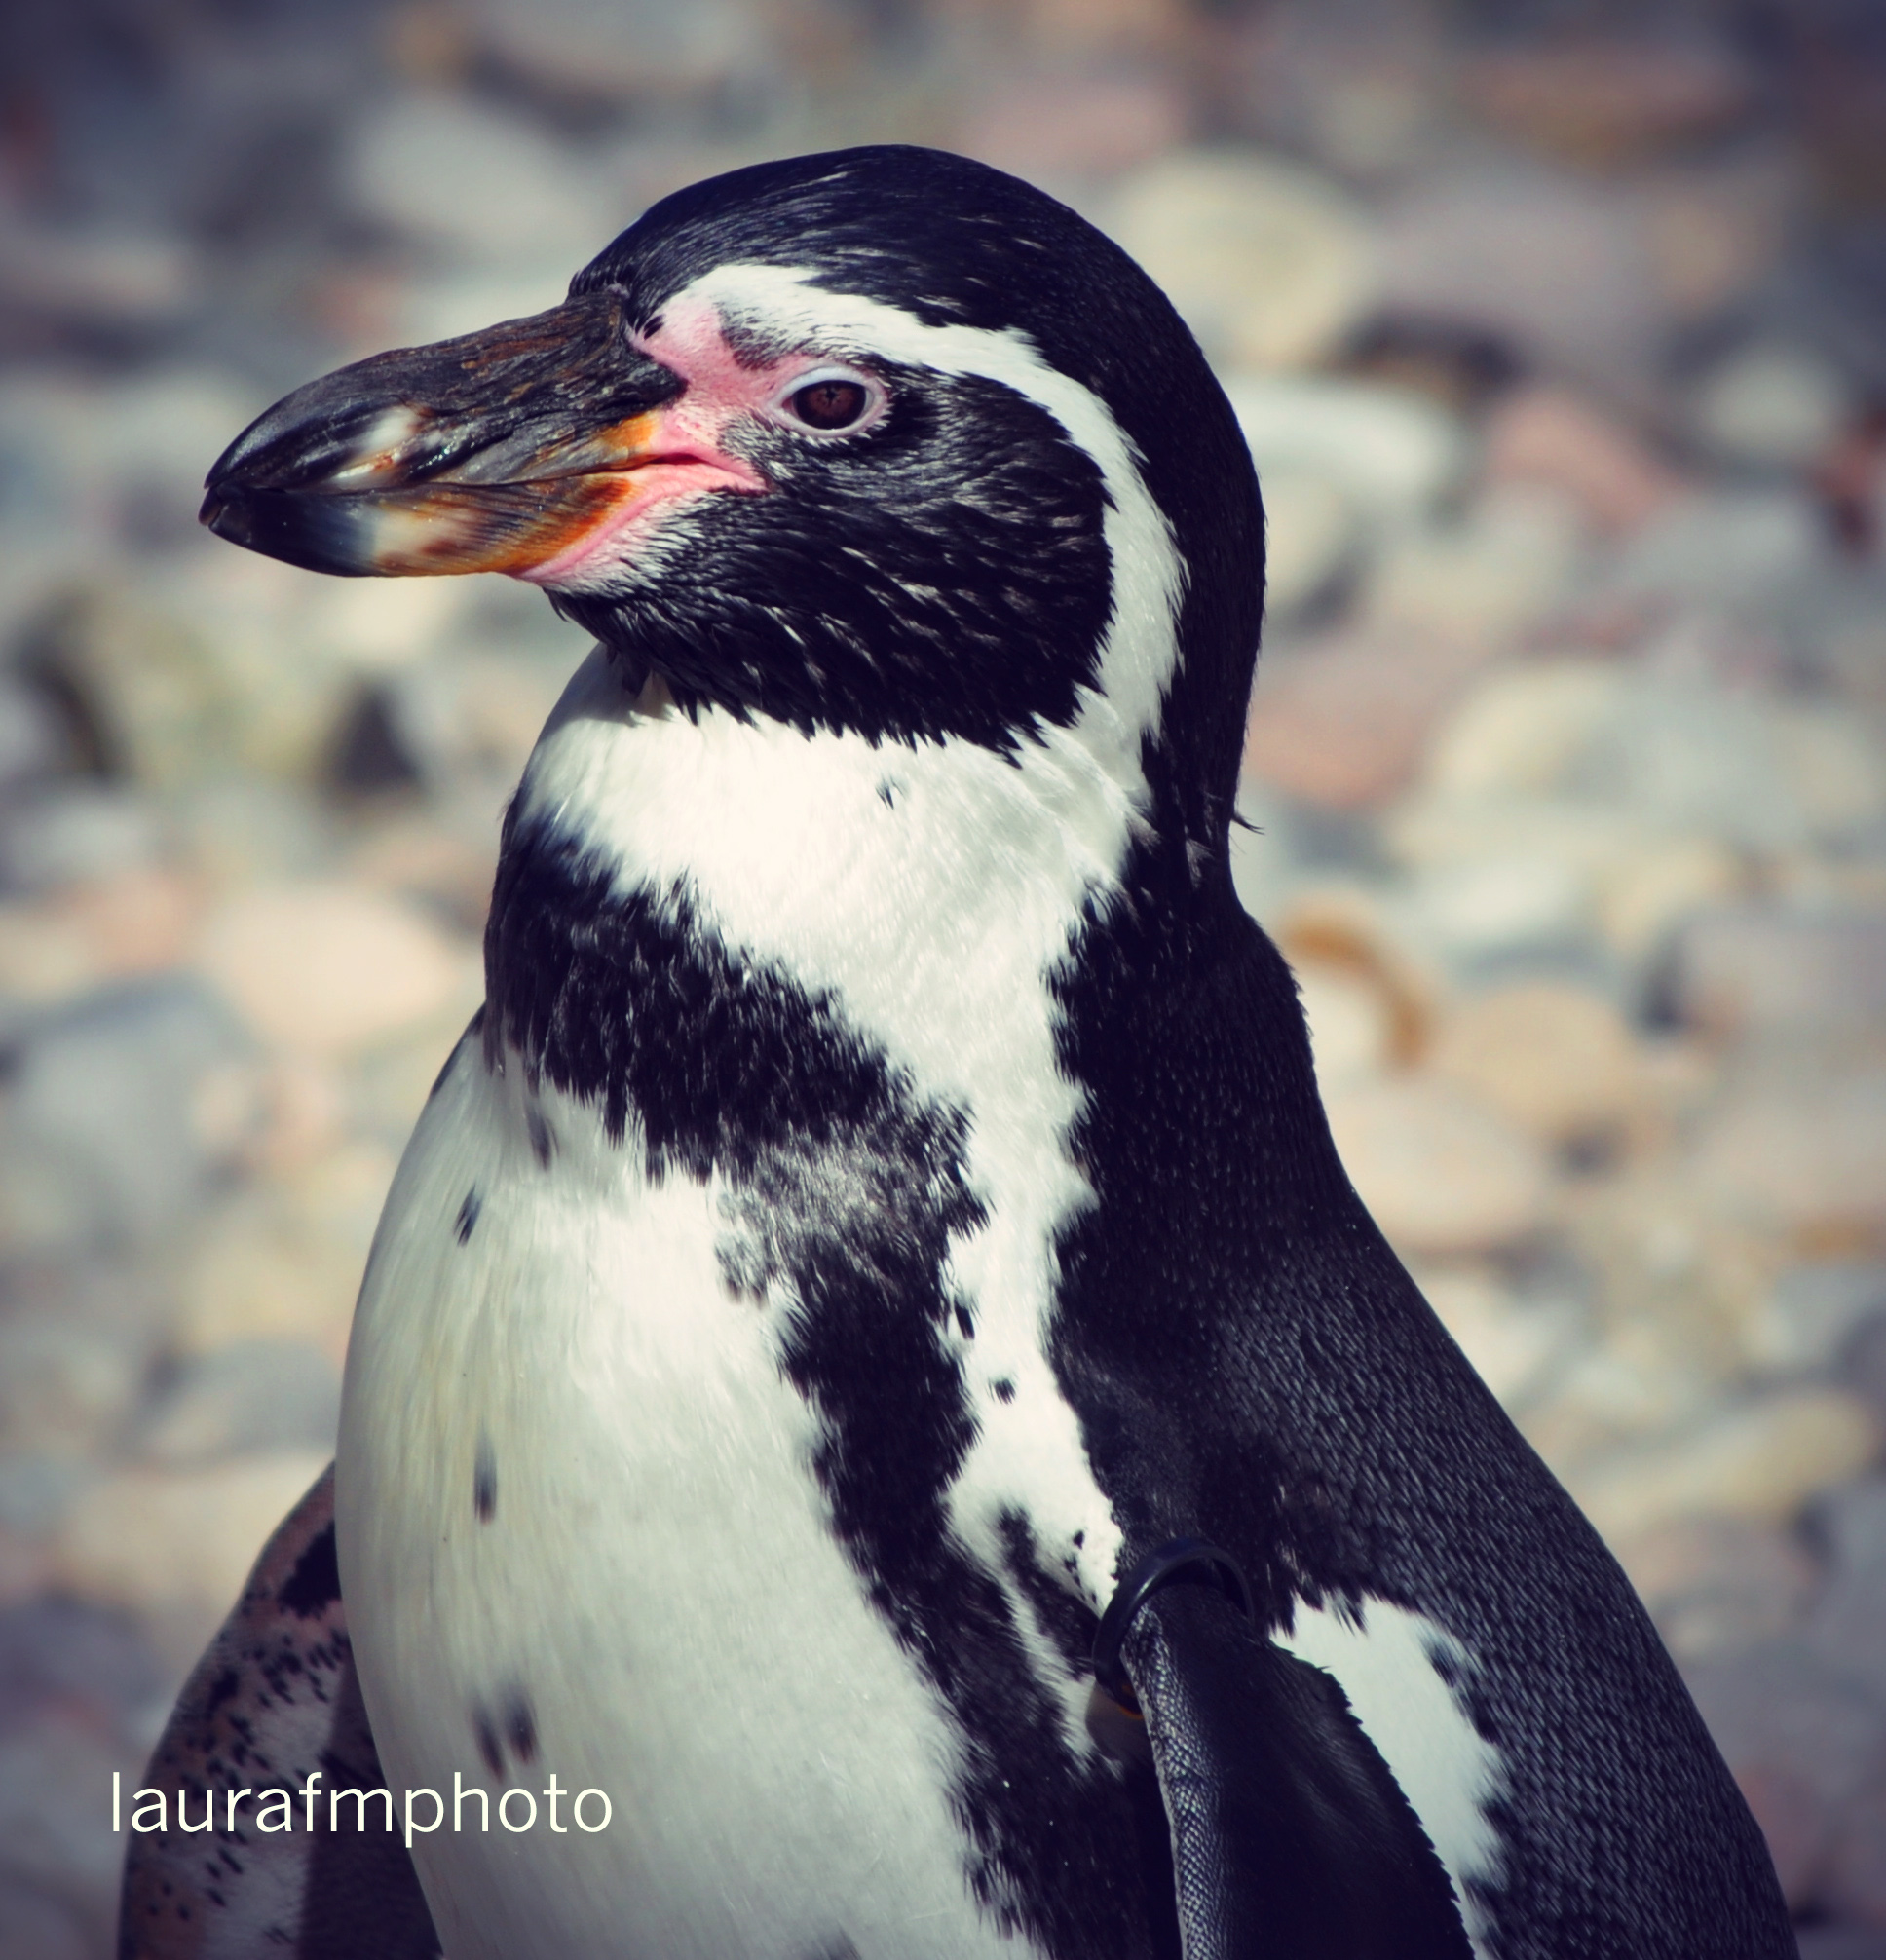penguin: (138, 136, 1811, 1960)
